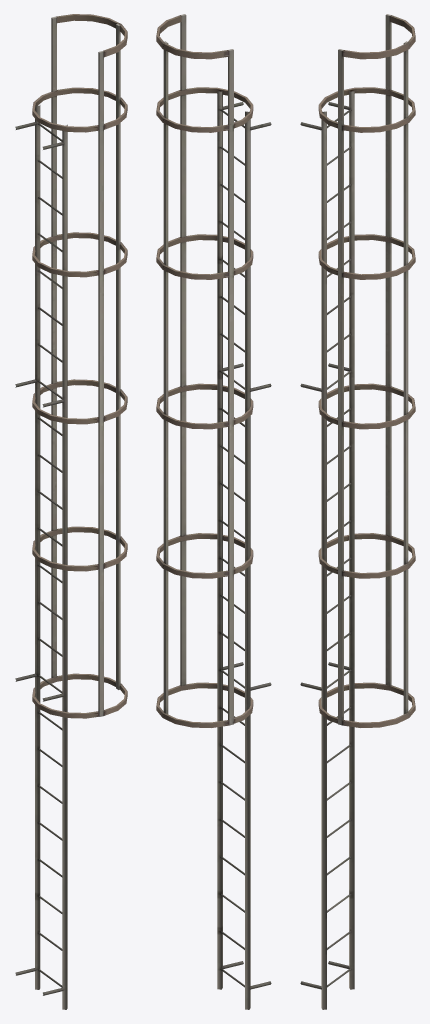
3 views of the same model, side by side, from view 1: azimuth 30°, elevation 25°; view 2: azimuth 210°, elevation 25°; view 3: azimuth 330°, elevation 25° (orthographic).
Visible parts, largest first — view 1: body0_model0_lod0_mesh0; view 2: body0_model0_lod0_mesh0; view 3: body0_model0_lod0_mesh0.
Part boxes in pixels (x1,y1,x2,y2): body0_model0_lod0_mesh0: (15, 14, 127, 1009); body0_model0_lod0_mesh0: (156, 14, 271, 1009); body0_model0_lod0_mesh0: (300, 14, 415, 1009).
Bounding box in the file's own units: 84.44 × 833 × 75.99.
1 material, 1 textured.
